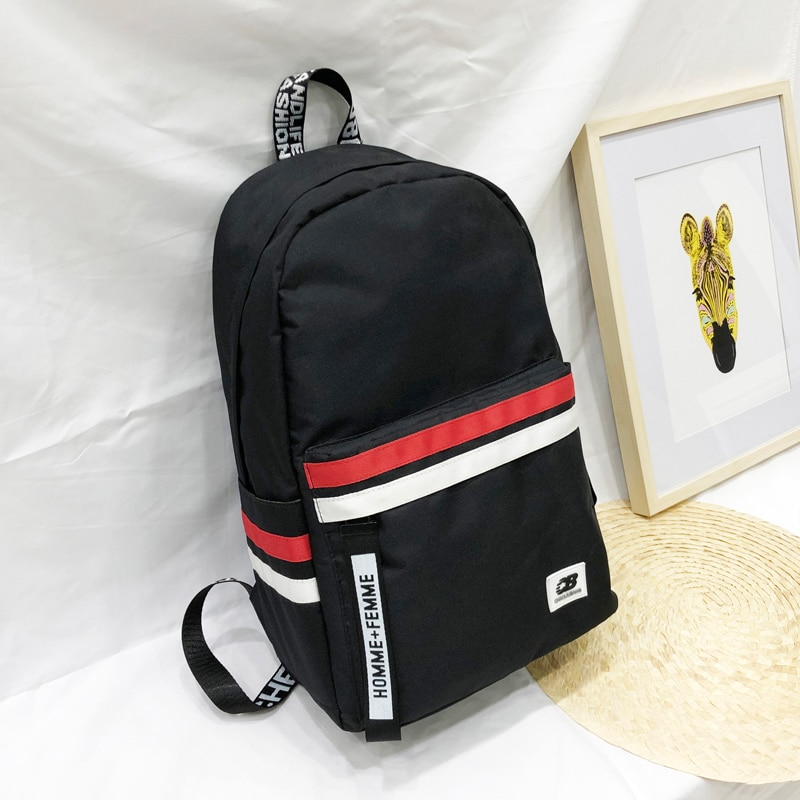Men's Backpacks: (179, 70, 626, 744)
